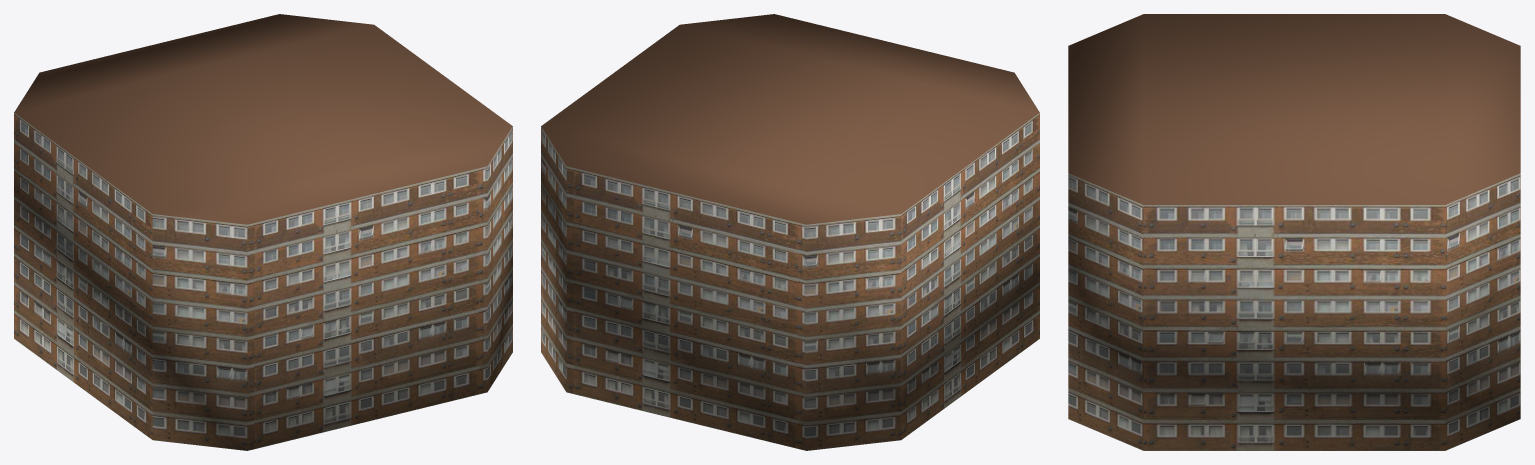
File: building5.fbx
The picture shows the model from 3 angles, left to right: view 1: azimuth 30°, elevation 25°; view 2: azimuth 150°, elevation 25°; view 3: azimuth 270°, elevation 25°; orthographic projection. The views are drawn at different scales.
Parts seen in each view (by area): view 1: scene.building5; view 2: scene.building5; view 3: scene.building5.
Part boxes in pixels (x1,y1,x2,y2): scene.building5: (14,14,512,450); scene.building5: (541,14,1039,450); scene.building5: (1068,14,1520,450).
Size of the model in its own units: 30 by 18 by 30.
1 material, 1 textured.
